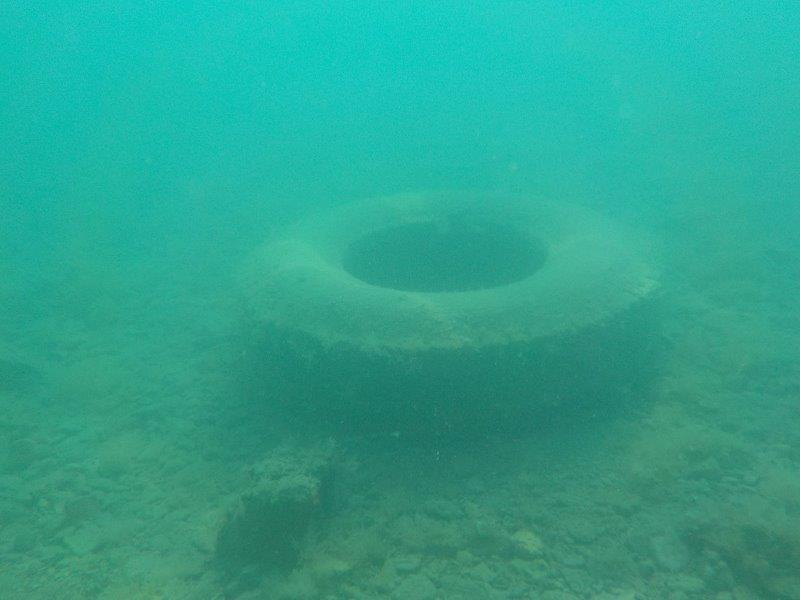tire: (226, 172, 675, 440)
